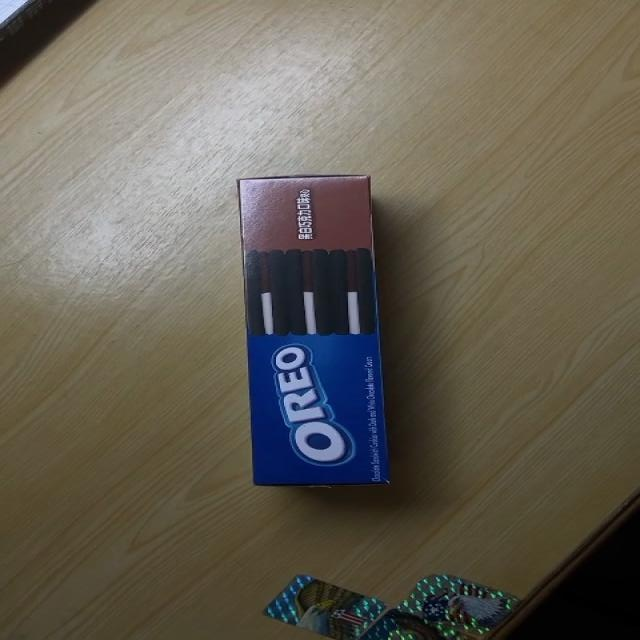Oreo: (237, 172, 394, 488)
